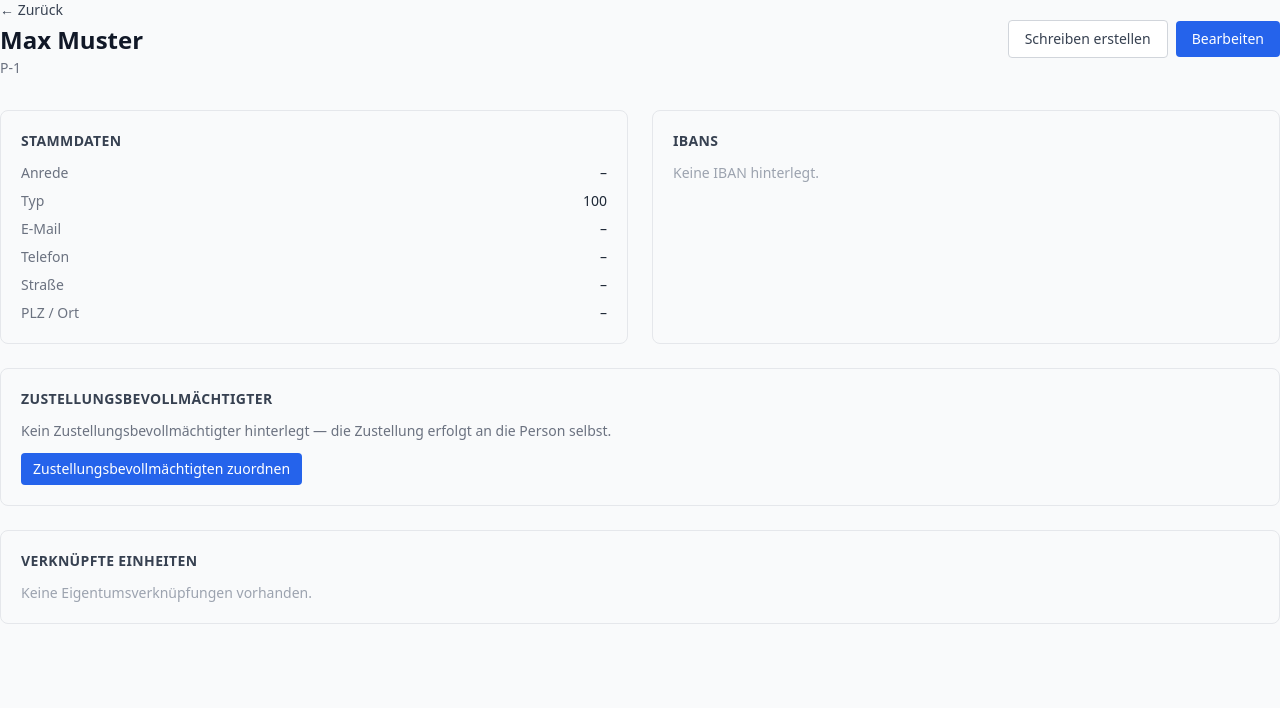
Test: PersonDetail — Schreiben erstellen › öffnet den Dialog mit dem Empfänger der Person; im Bearbeitungsmodus ist der Button ausgeblendet
Click the button "Schreiben erstellen": [1088, 39] box [1008,20,1168,58]
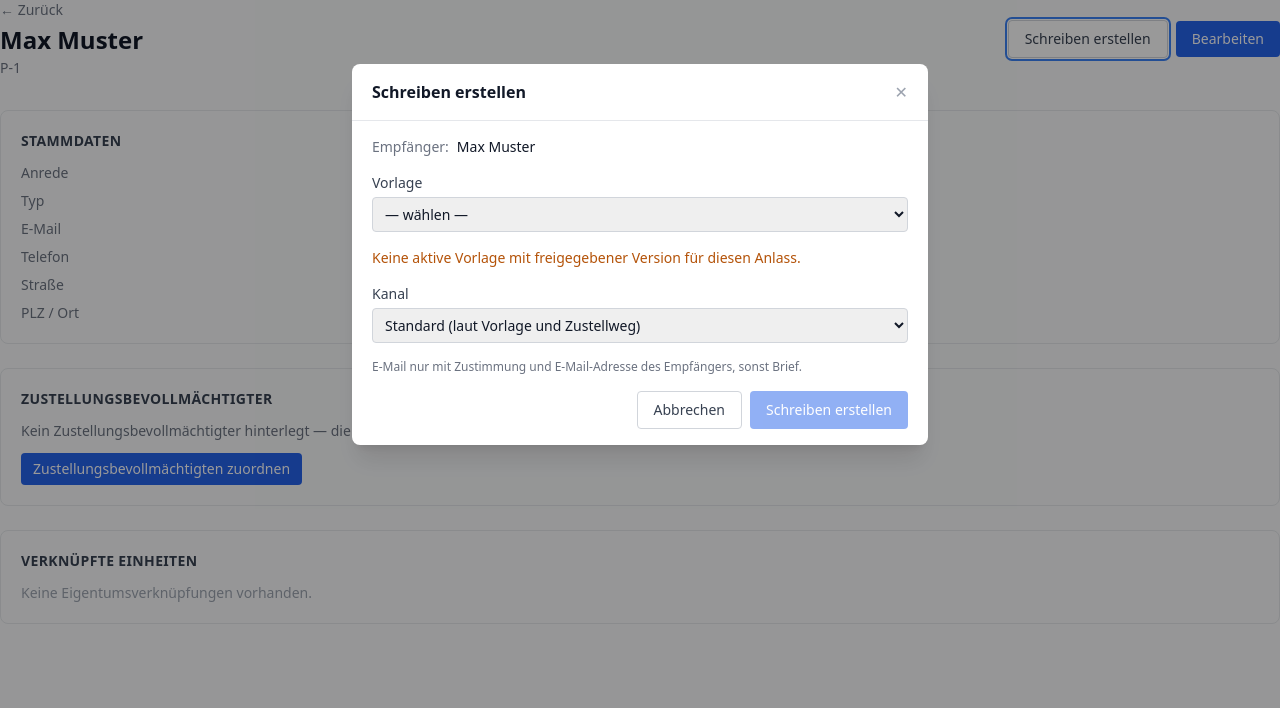
Result: the dialog "Schreiben erstellen" shows "Max Muster" at [457,137,535,156]
Click the button "Abbrechen": [689, 410] box [636,391,742,429]
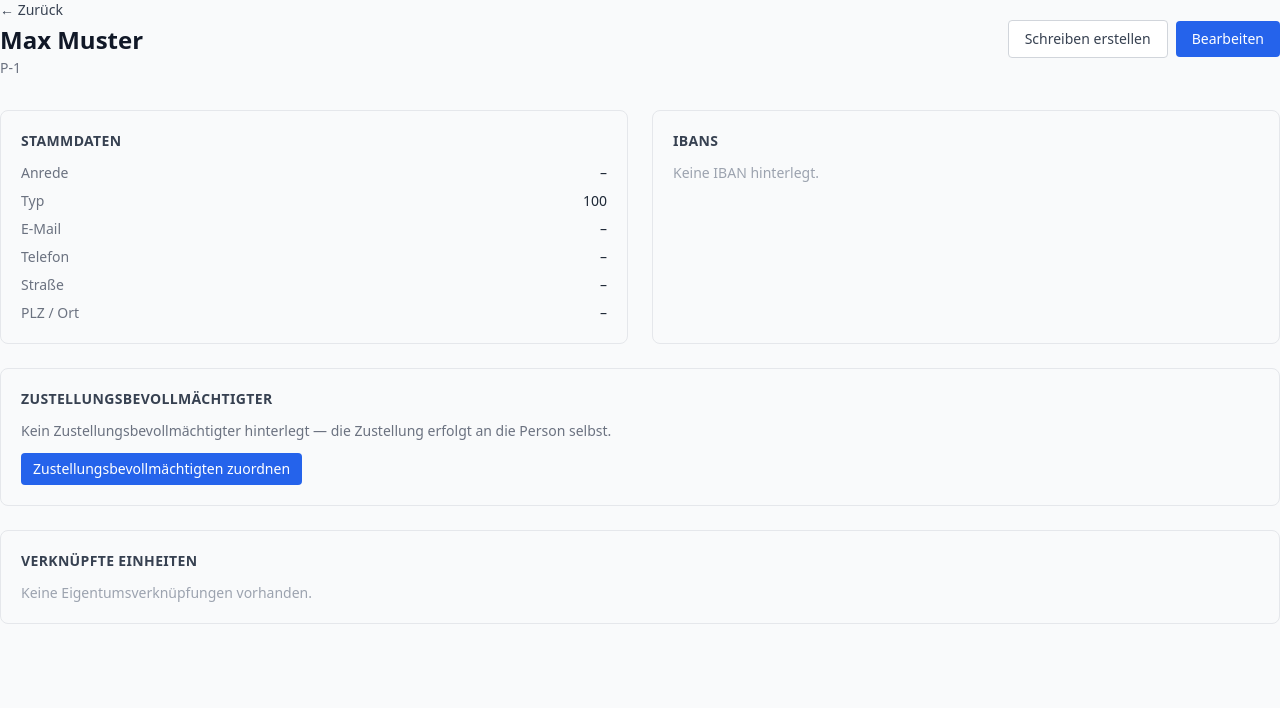
Result: the dialog is gone
Click the button "Bearbeiten": [1228, 39] box [1176,21,1279,57]
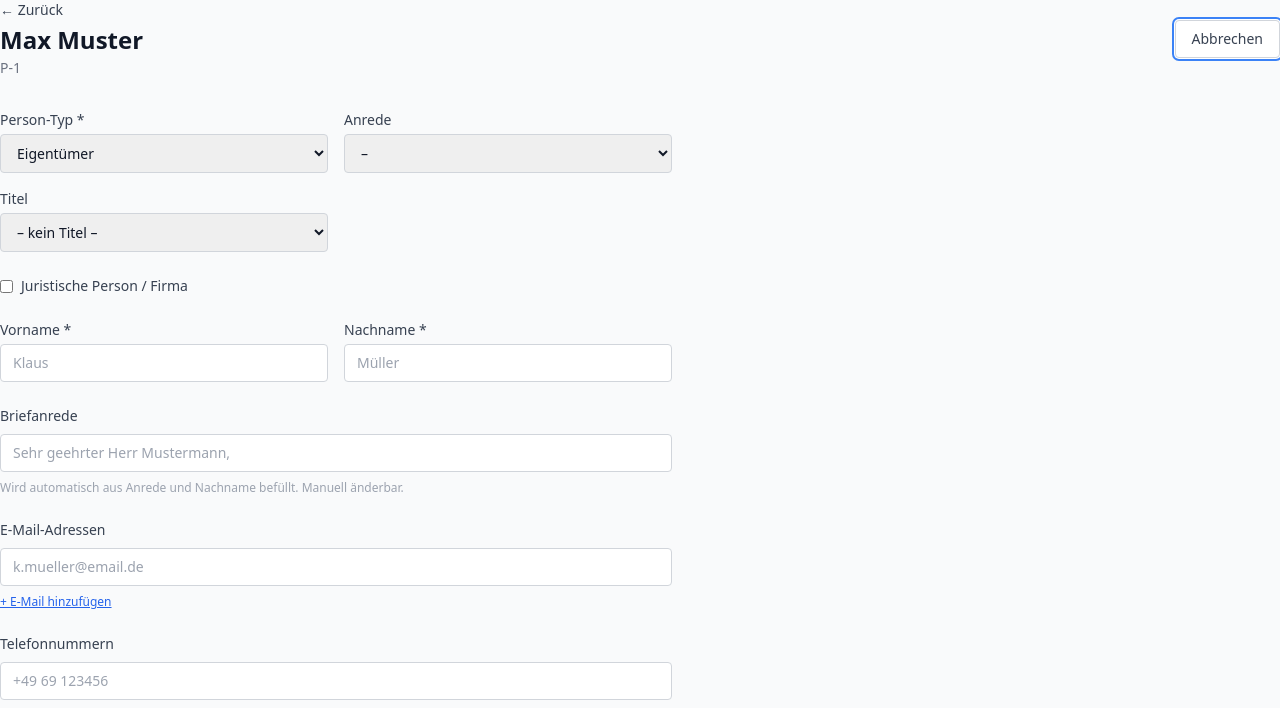
Result: the button "Schreiben erstellen" is gone
